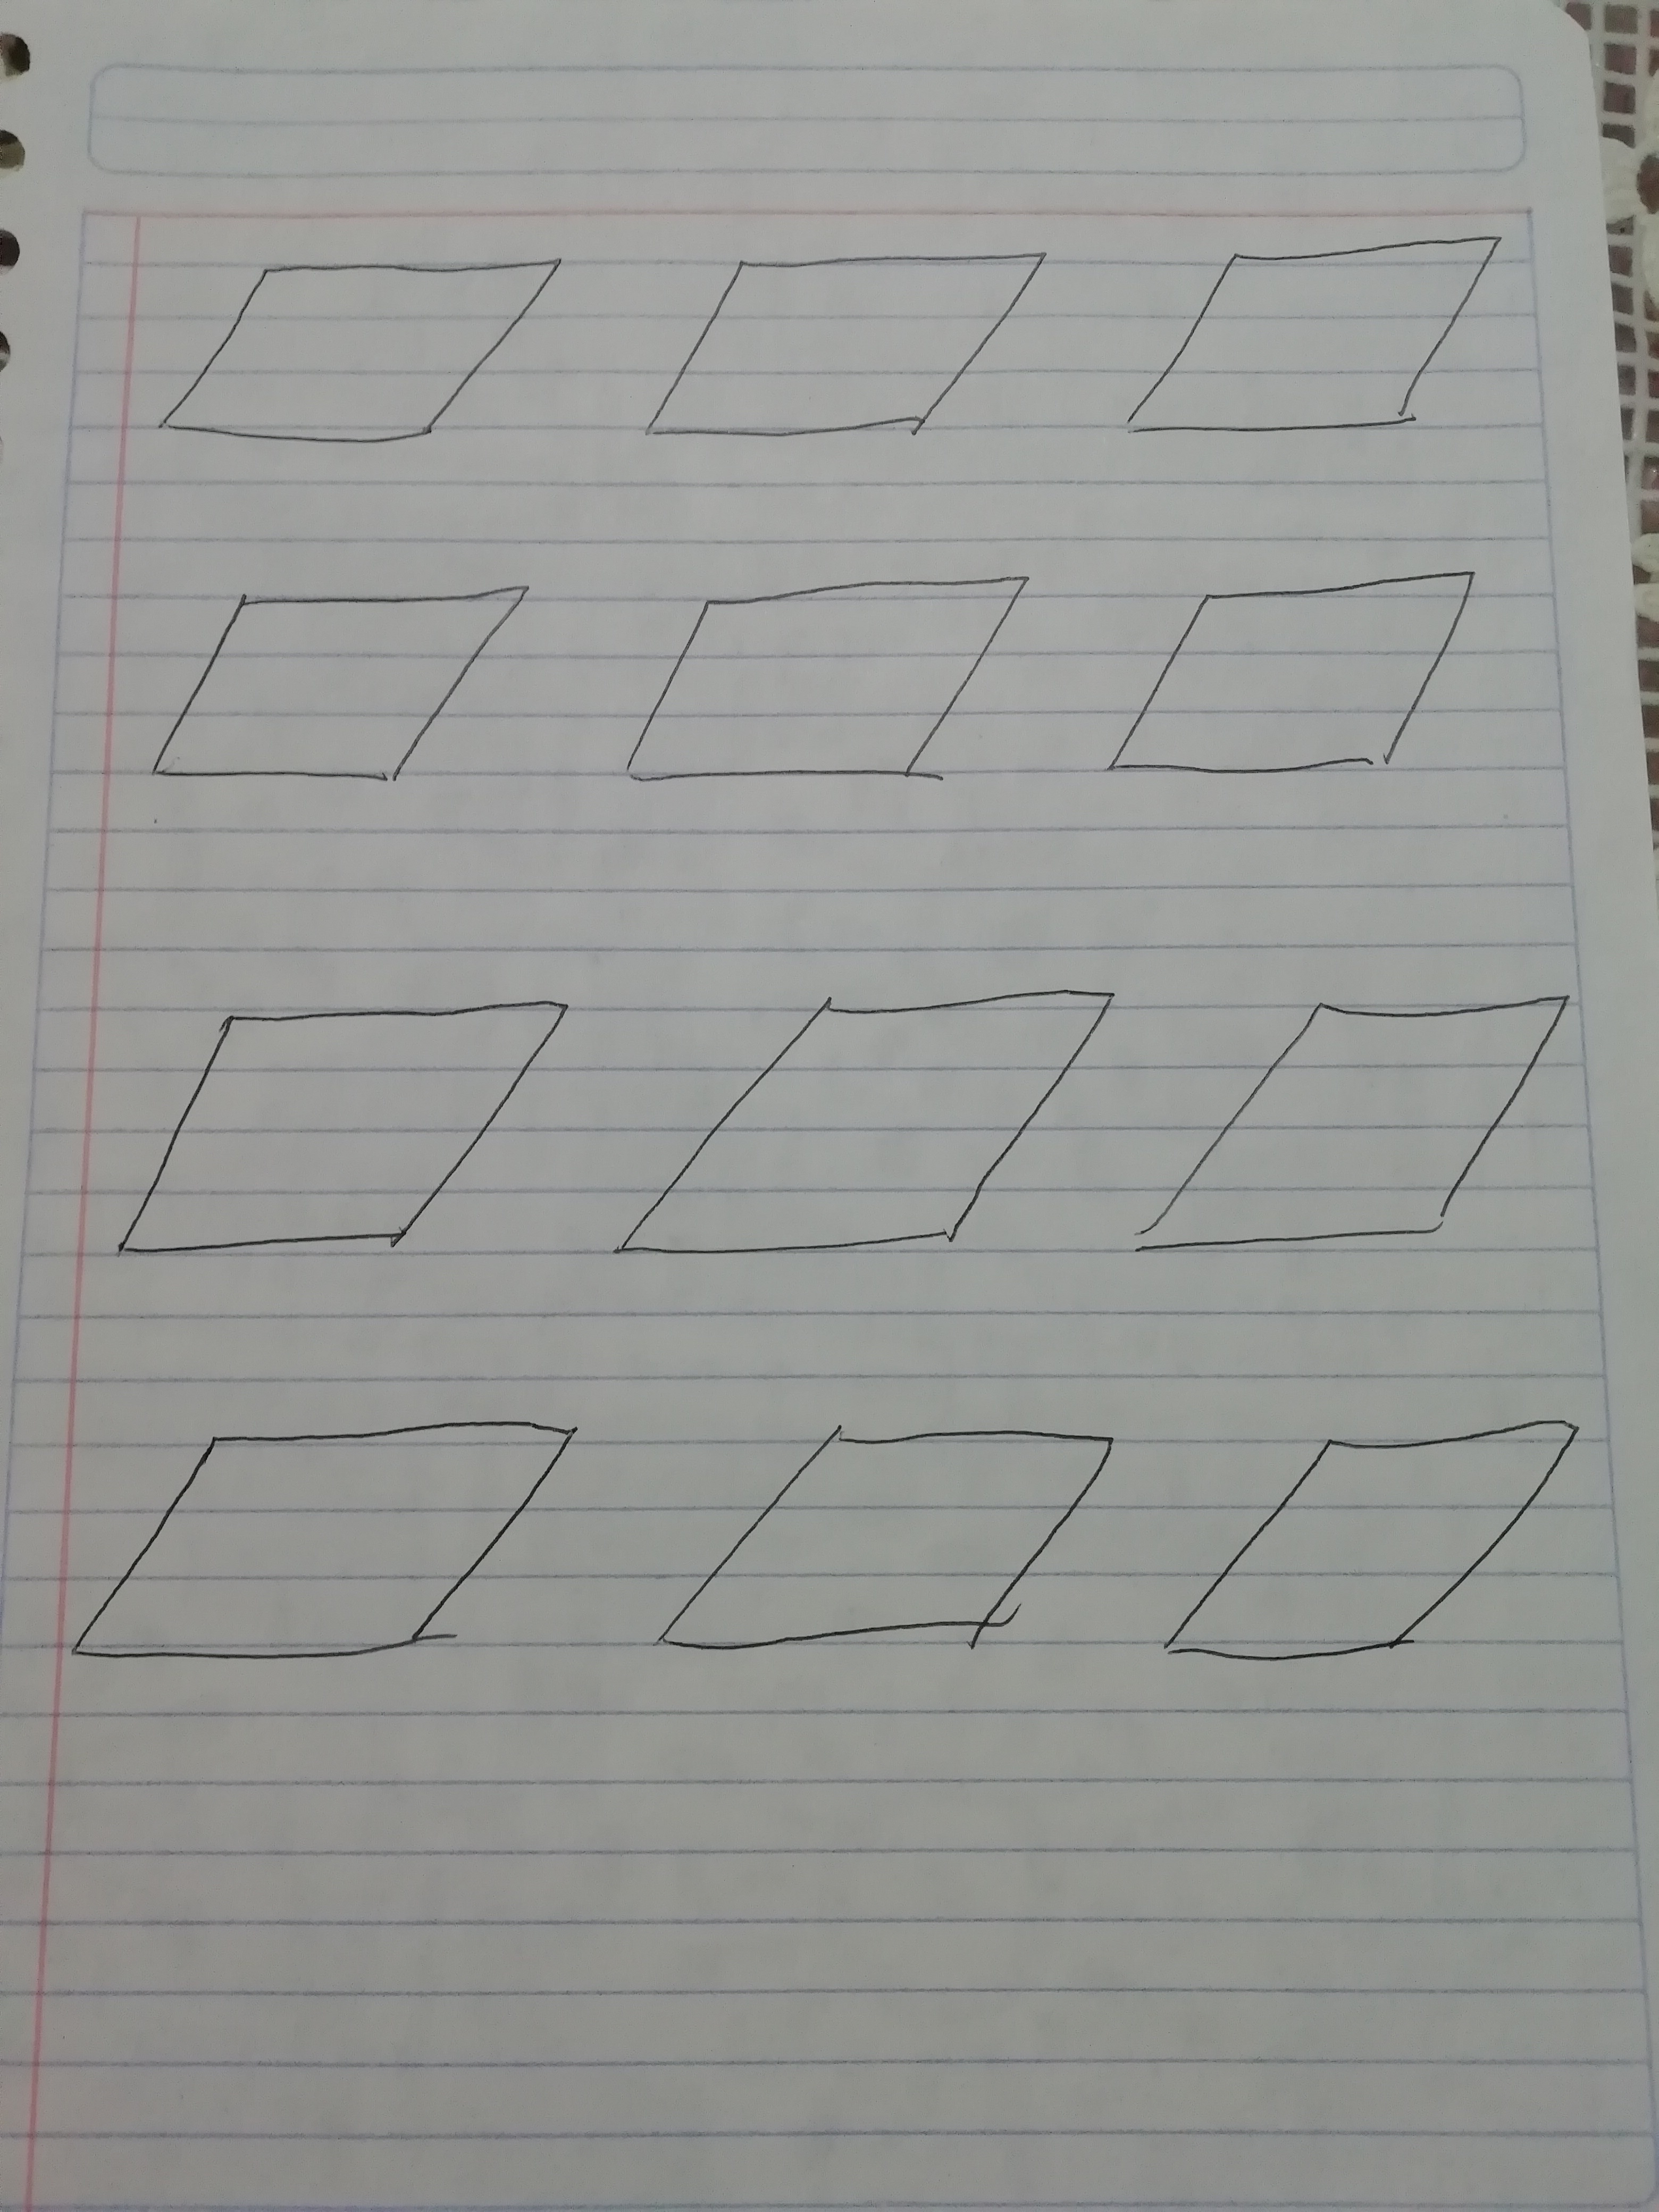scan: (47, 1404, 605, 1709), (615, 975, 1122, 1298), (87, 979, 605, 1294), (1129, 963, 1586, 1294), (643, 1400, 1133, 1702), (1147, 1400, 1622, 1705), (98, 233, 594, 489), (601, 549, 1061, 815), (1096, 206, 1534, 475), (615, 237, 1082, 489), (1075, 556, 1527, 812), (125, 564, 561, 822)
